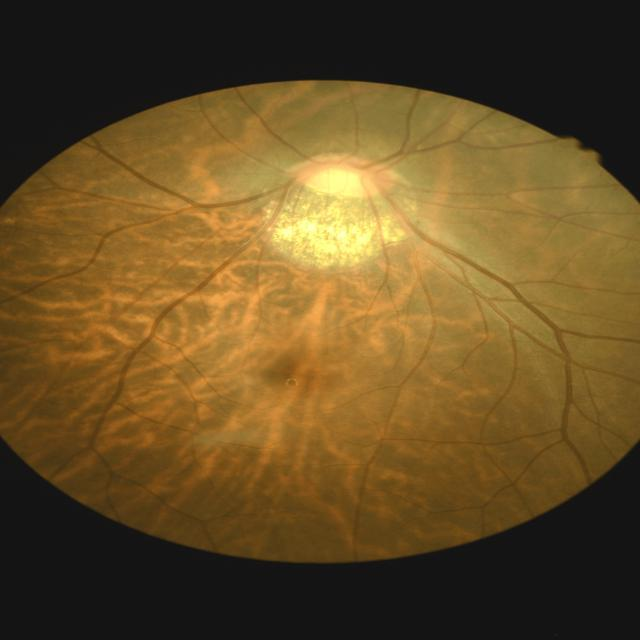cup: (304, 164, 380, 192)
disk: (290, 152, 397, 196)
